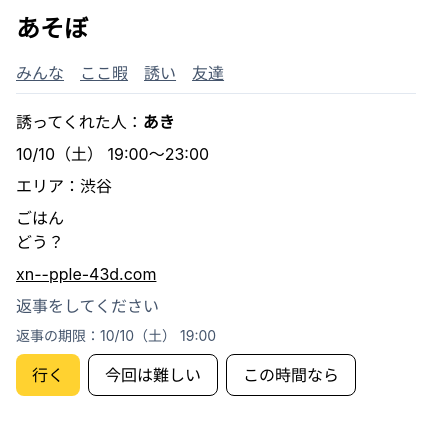
Test case: 誘いの詳細と返答 › 返答は押したらすぐ表示を変え、失敗したら戻して静かな文言を出す
What coordinates should you click on to do the following:
click the button "今回は難しい"
I would click on:
 (153, 375)
Its box is [88,354,218,396].
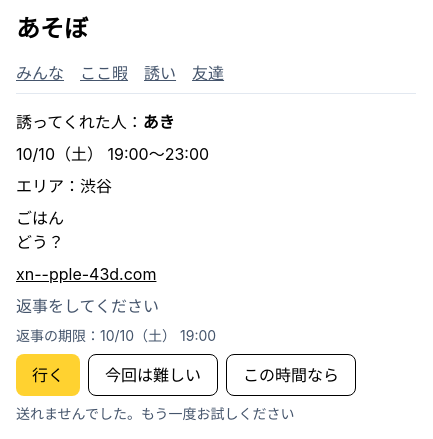
Expected: the text "今回は難しいと返しました" is shown, [16,296,159,316]
Result: the text "送れませんでした。もう一度お試しください" is shown at [16,405,294,422]
